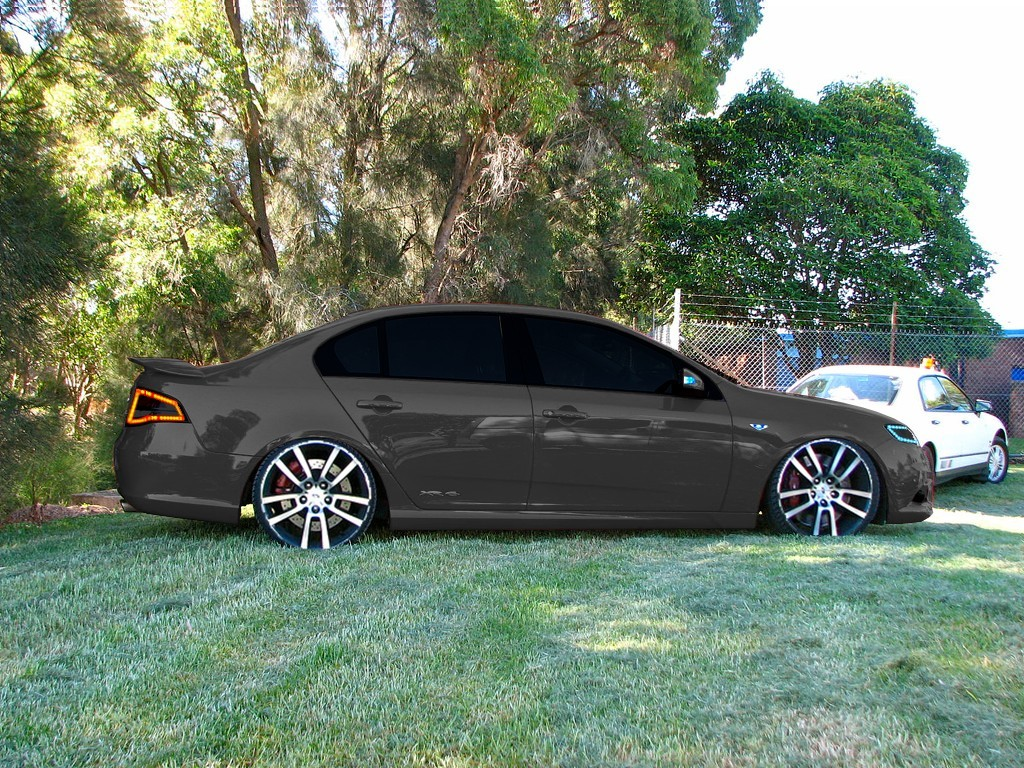Car: (113, 301, 931, 550), (785, 361, 1009, 482)
